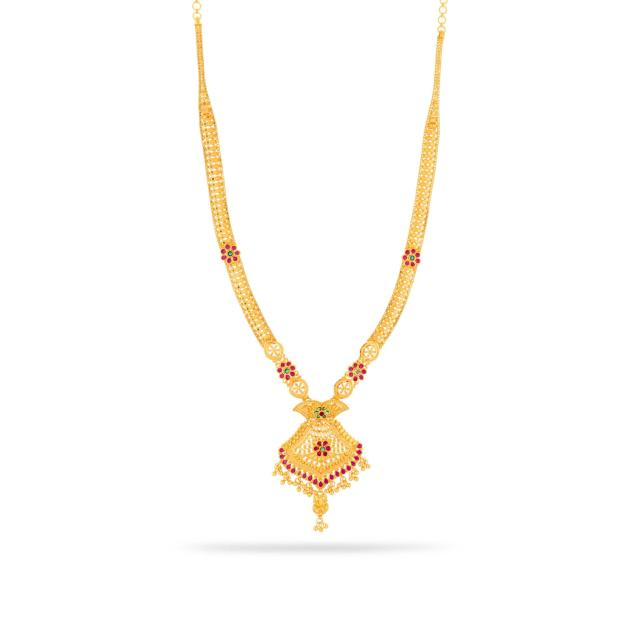missing gem: (355, 370, 360, 375), (298, 470, 301, 475)
